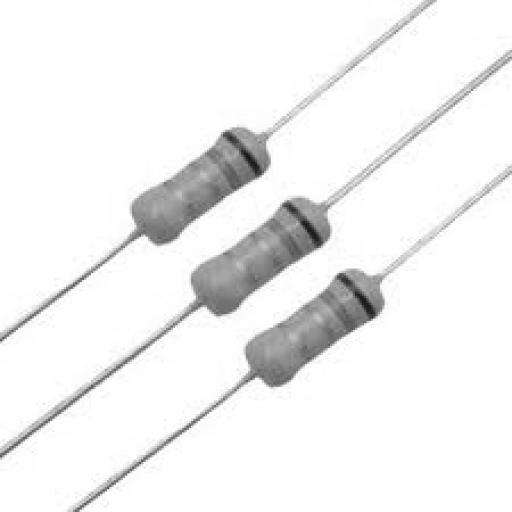RESISTOR: (89, 97, 300, 255), (226, 260, 415, 421), (164, 189, 354, 319)
